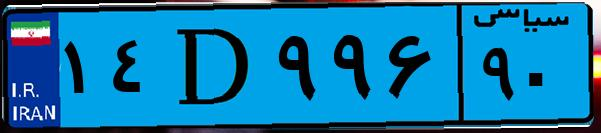0: (525, 38, 570, 115)
1: (57, 26, 110, 100)
4: (110, 28, 158, 98)
6: (385, 28, 445, 110)
9: (270, 28, 330, 110), (330, 28, 385, 110), (475, 38, 525, 113)
D: (158, 12, 270, 120)
